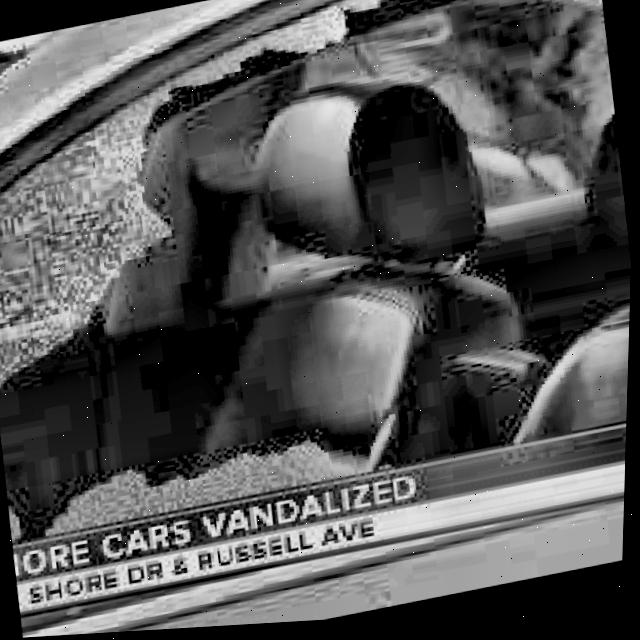glass_shatter: (307, 0, 640, 472), (0, 145, 379, 538), (140, 55, 332, 181)
